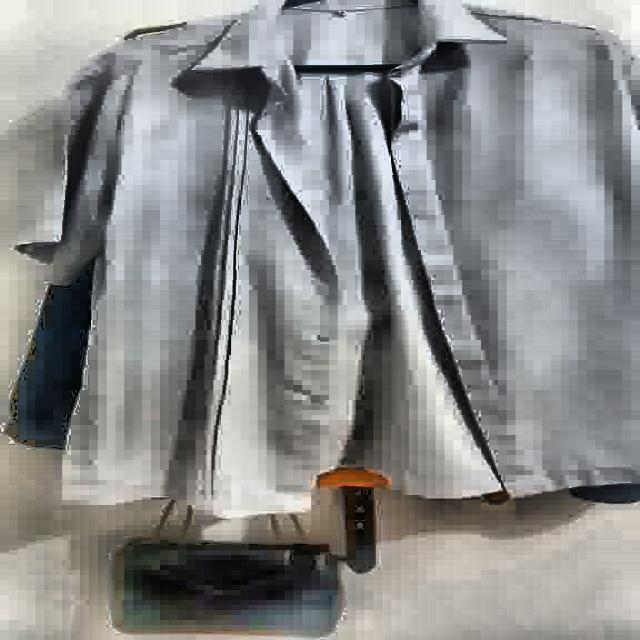clothes: (13, 0, 640, 520)
